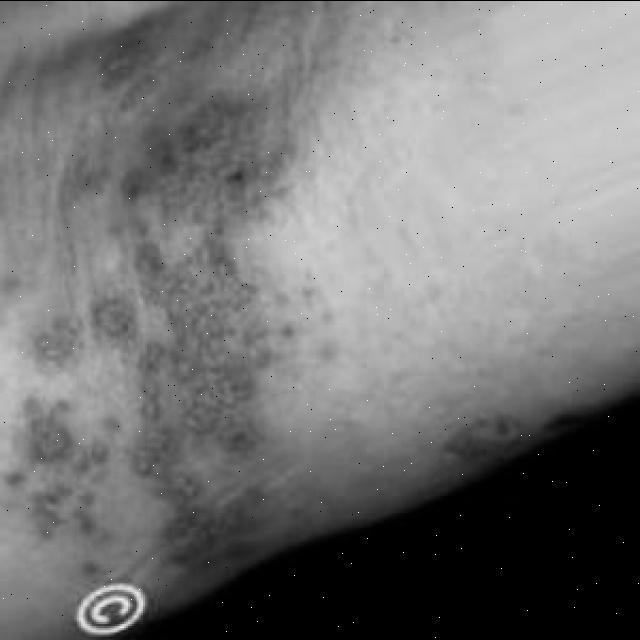Shingles: (124, 83, 300, 590), (9, 398, 117, 546), (28, 296, 130, 366)
